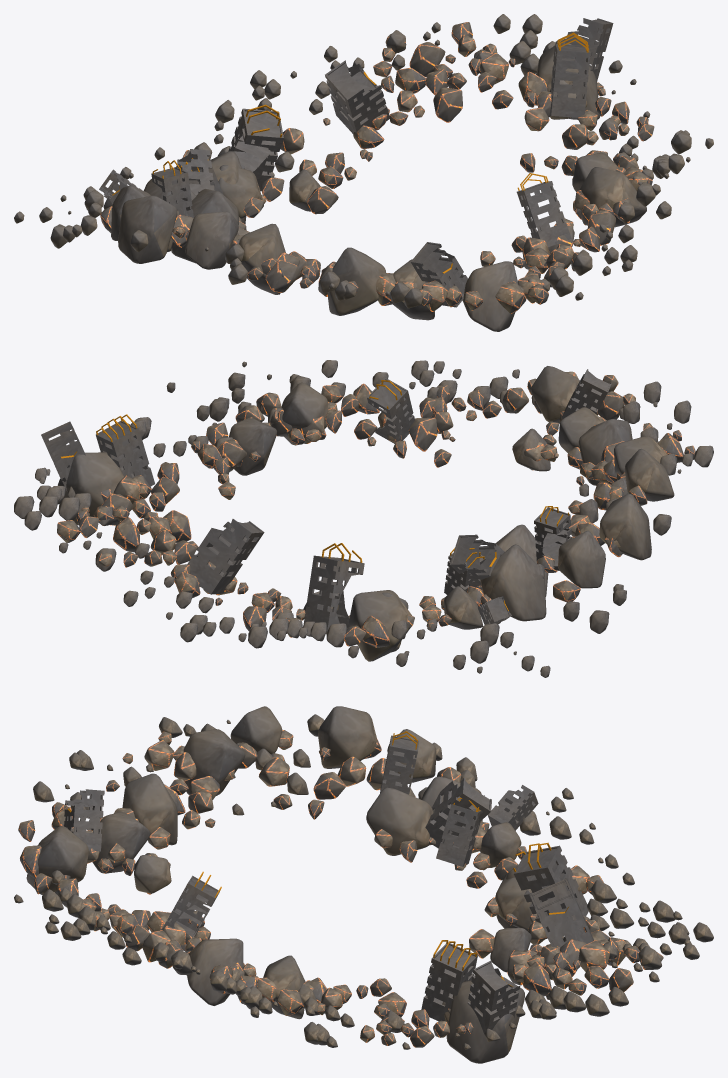
File: OldSozaRubble.fbx
3 views of the same model, one above another, from view 1: azimuth 30°, elevation 25°; view 2: azimuth 150°, elevation 25°; view 3: azimuth 270°, elevation 25° (orthographic). The views are drawn at different scales.
Parts seen in each view (by area): view 1: Circle.008; view 2: Circle.008; view 3: Circle.008.
Part boxes in pixels (x1,y1,x2,y2): Circle.008: (14,14,713,331); Circle.008: (14,360,713,677); Circle.008: (14,706,713,1063).
Bounding box in the file's own units: 689 × 169 × 685.
Materials: 2 (1 with a texture image).
